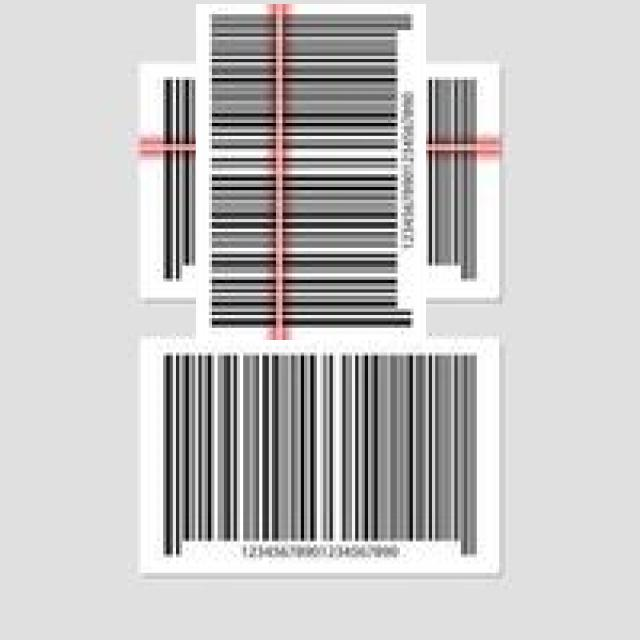Barkod: (166, 33, 457, 324), (150, 340, 484, 571)
